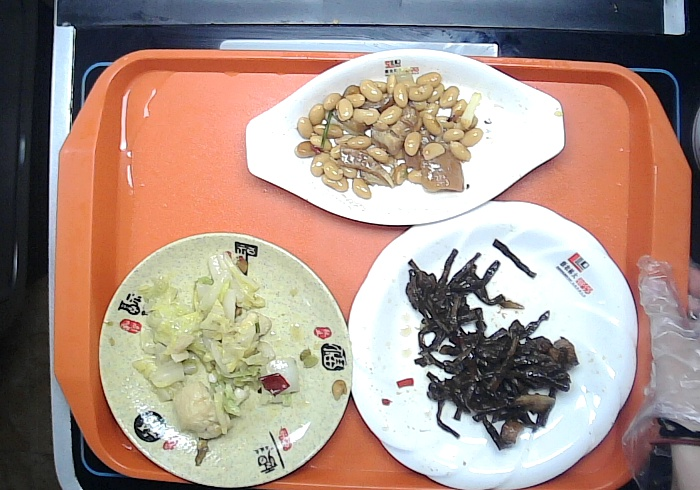NLDX-Bai_Zhe_Yuan_Pan: (341, 197, 640, 490)
NLDX-Fu_Zi_Yuan_Pan: (96, 232, 356, 490)
NLDX-Yu_Pan: (241, 46, 568, 229)
